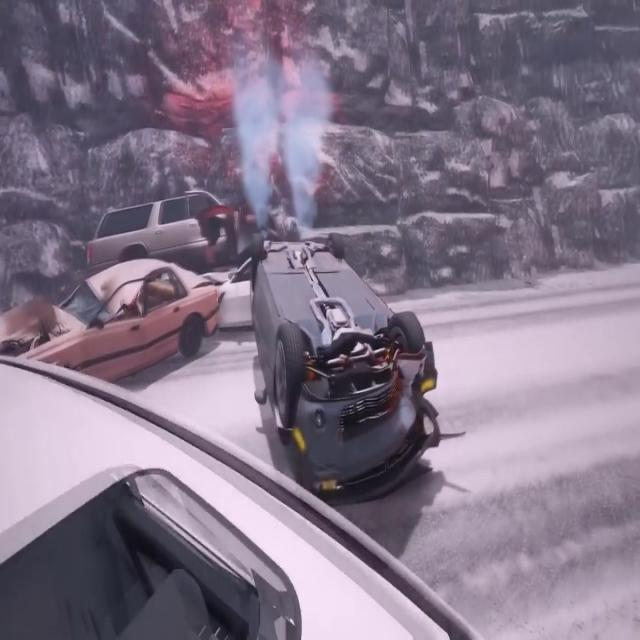accident: (39, 191, 443, 501)
